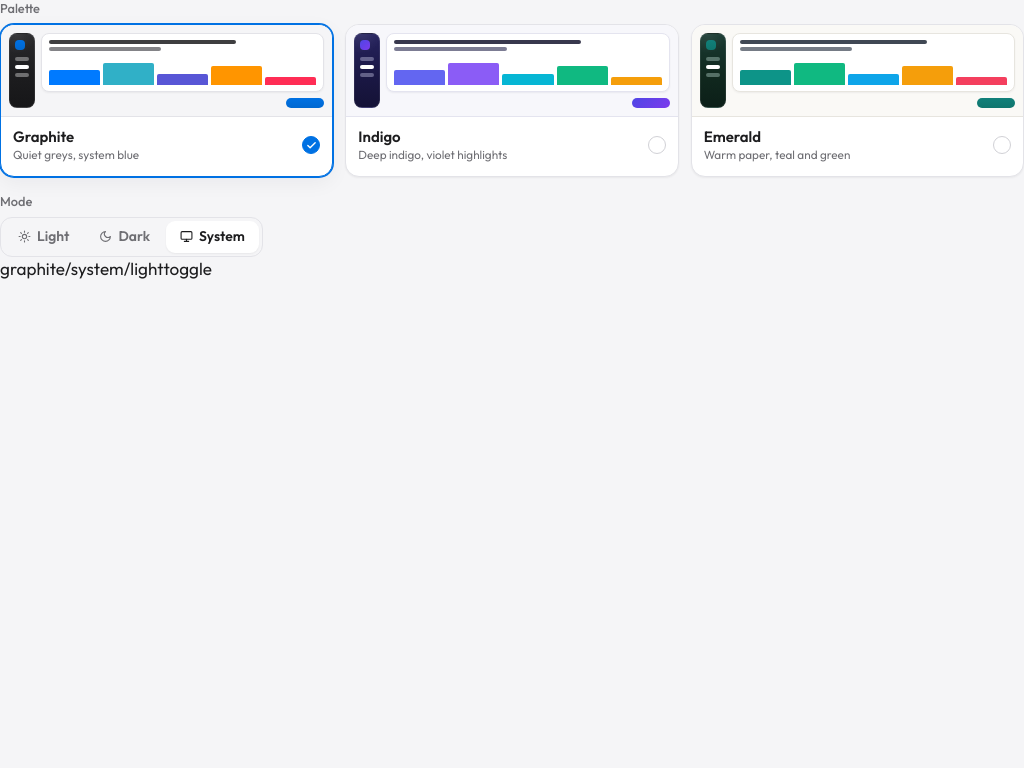
Scenario: AppearancePicker › is two radio groups, and picking a palette or mode applies it
Click the radio button labelled "Indigo Deep indigo, violet highlights" at (512, 100), box top-left (345, 24), bottom-right (679, 176)
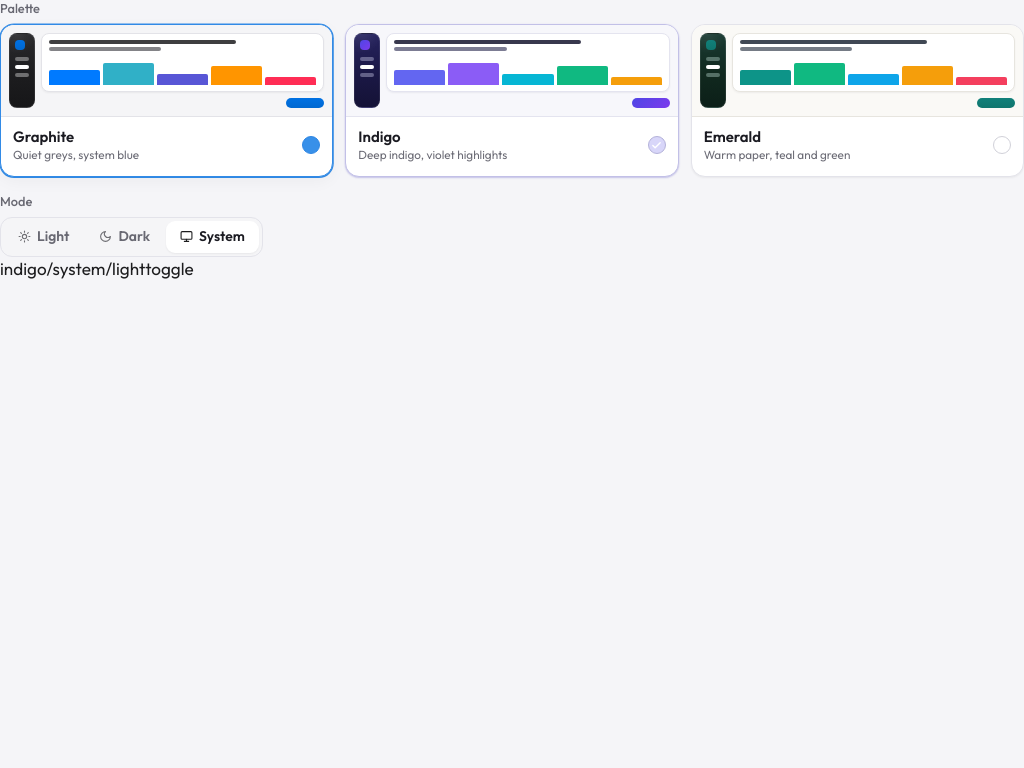
Expected: the radio button labelled "Indigo Deep indigo, violet highlights" is checked, top-left (345, 24), bottom-right (679, 176)
Click the radio button labelled "Dark" at (125, 236), box top-left (85, 220), bottom-right (164, 252)
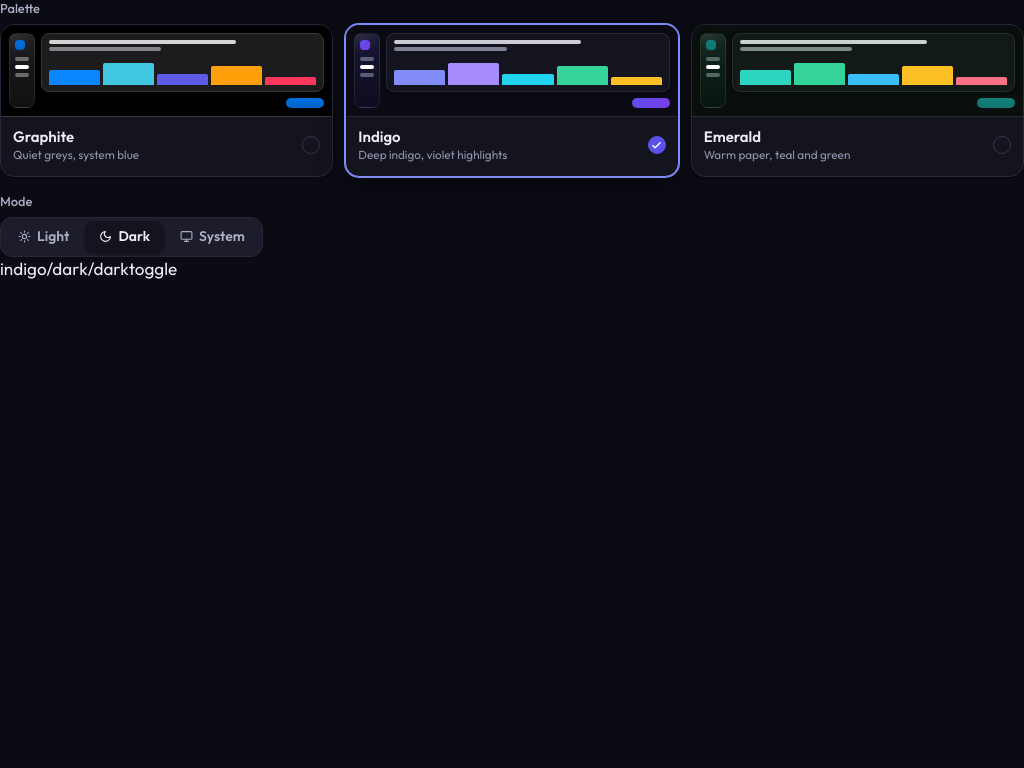
Expected: the text with test id "state" reads "indigo/dark/dark", top-left (0, 258), bottom-right (129, 278)
